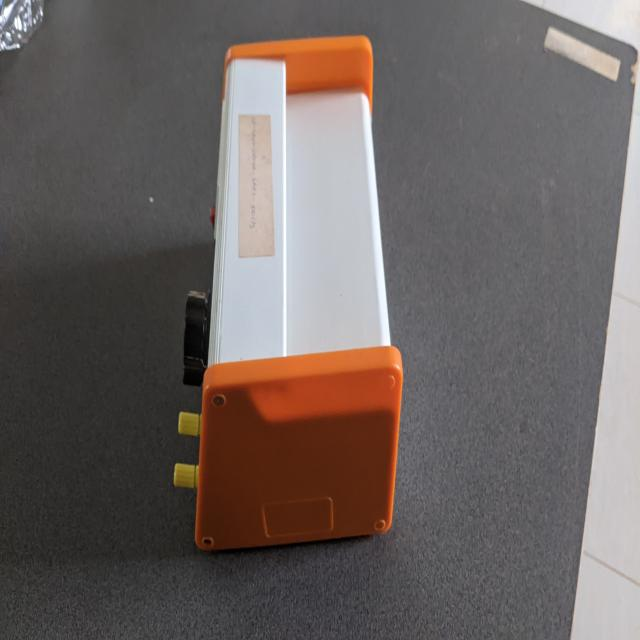AC and DC Power Supply 24V: (169, 34, 408, 552)
